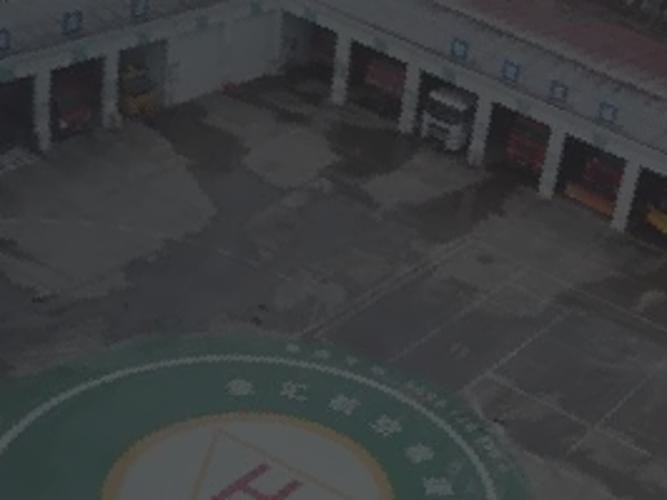Apron: (100, 408, 397, 500)
